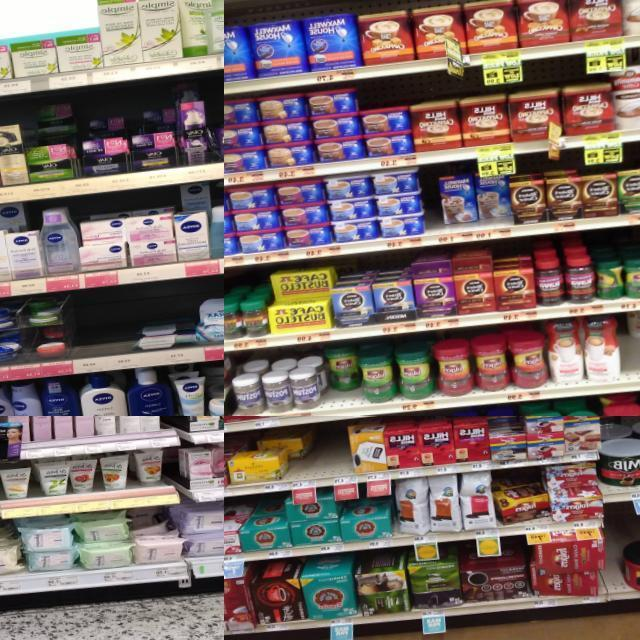Imprecise: (84, 110, 178, 176), (25, 98, 77, 177), (316, 338, 365, 408), (172, 180, 211, 262), (0, 201, 25, 278)
